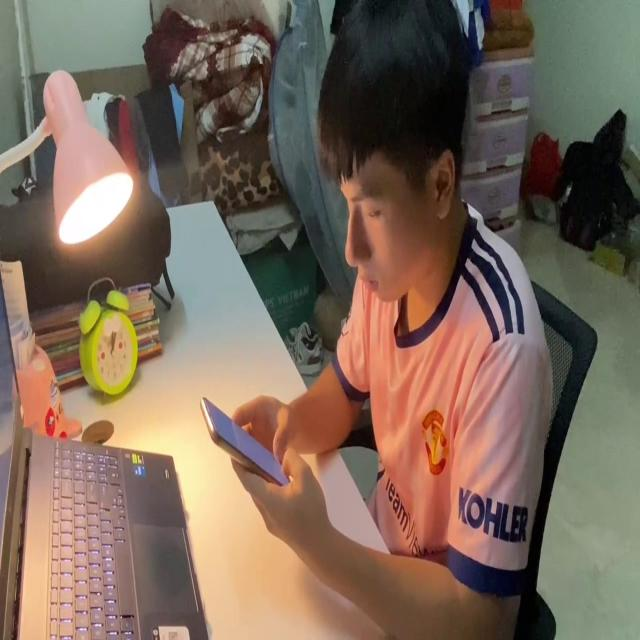laptop: (0, 262, 209, 640)
phone: (200, 389, 291, 487)
student: (229, 2, 553, 640)
